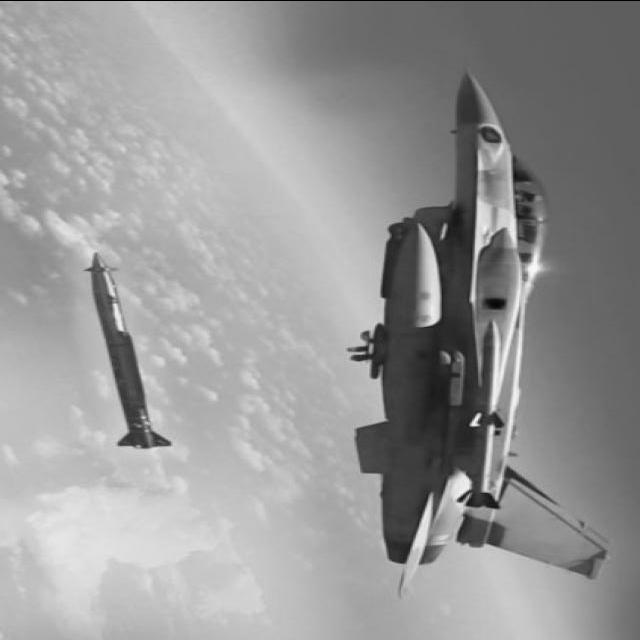missile: (82, 232, 176, 455)
